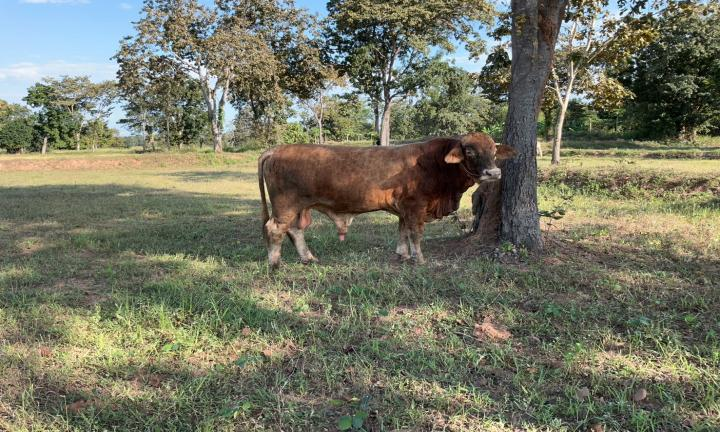Charolais: (258, 133, 518, 268)
